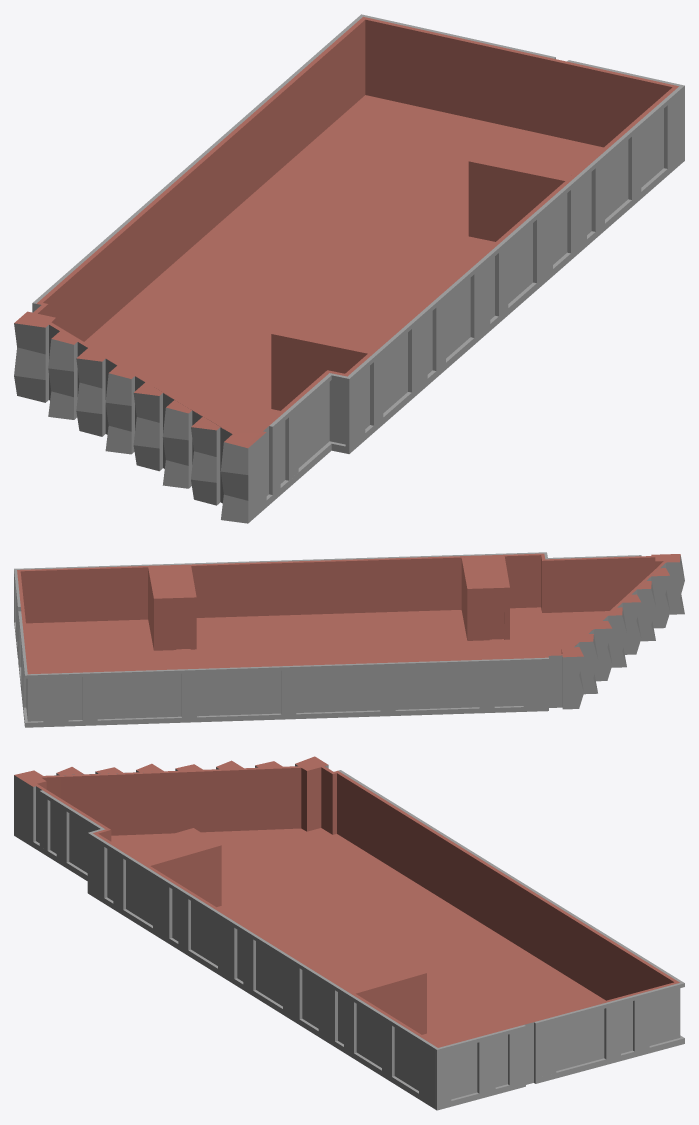
Rendered from JLL_Ruya_Region3DModels_Riyadh_Derived_HeroBuildings_Building 305_Floors_KSA_04_04105_B29_Floor_T2_1.fbx.
3 renders of one model, top to bottom at view 1: azimuth 30°, elevation 25°; view 2: azimuth 150°, elevation 25°; view 3: azimuth 270°, elevation 25°, orthographic. The views are drawn at different scales.
Parts seen in each view (by area): view 1: KSA_04_04105_B29_Floor_T2_1; view 2: KSA_04_04105_B29_Floor_T2_1; view 3: KSA_04_04105_B29_Floor_T2_1.
Boxes of the visible parts, x1,y1,x2,y2 form: KSA_04_04105_B29_Floor_T2_1: (14,14,684,523); KSA_04_04105_B29_Floor_T2_1: (14,552,684,727); KSA_04_04105_B29_Floor_T2_1: (14,756,684,1110).
Size of what is drawn, in the model's own units: 5169 by 500 by 4993.
